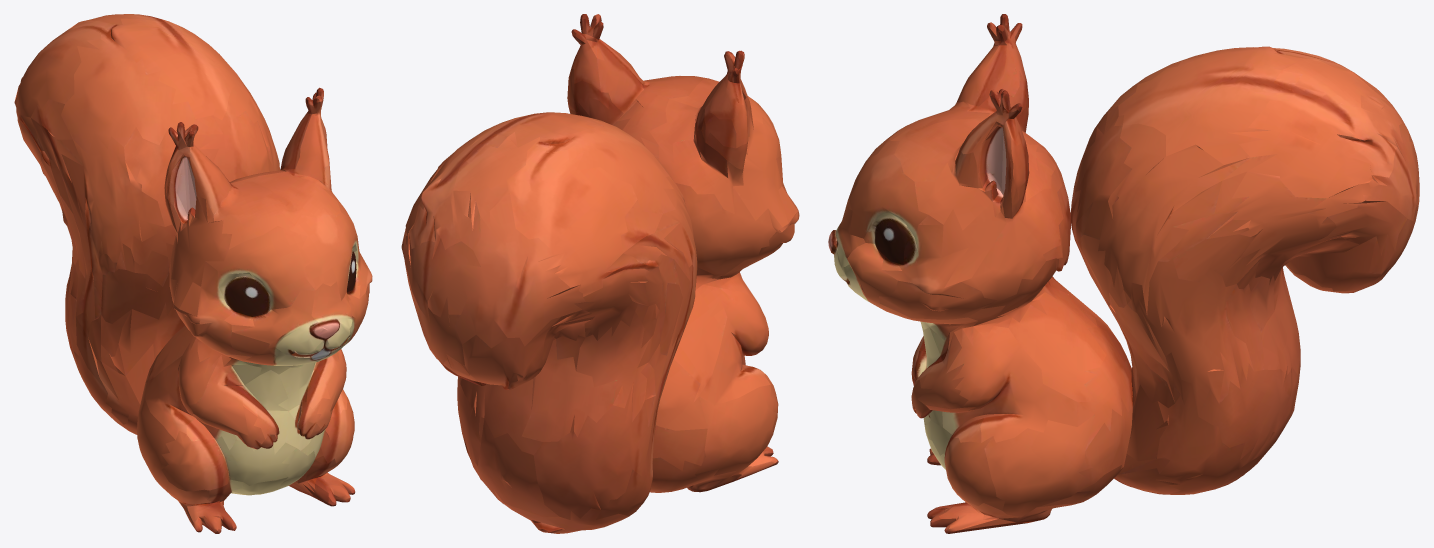
The model's file is pet_coco.glb.
The picture shows the model from 3 angles, left to right: view 1: azimuth 30°, elevation 25°; view 2: azimuth 150°, elevation 25°; view 3: azimuth 270°, elevation 25°; orthographic projection. The views are drawn at different scales.
Bounding box in the file's own units: 0.8288 × 1.56 × 1.9.
1 material, 1 textured.
